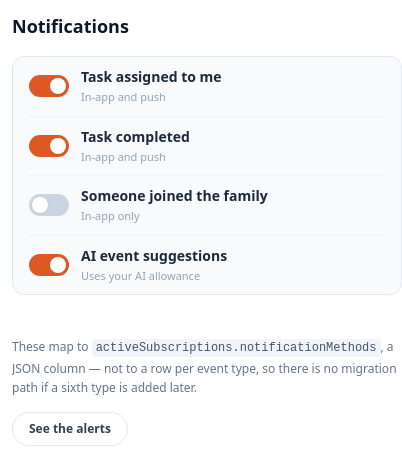
AccountNotificationsSection — the approved card › a switch that only renders is a failure › names what changed, immediately, and never in a bare alert
Click the switch named "Task assigned to me".
click(49, 86)  # box [29,75,69,97]
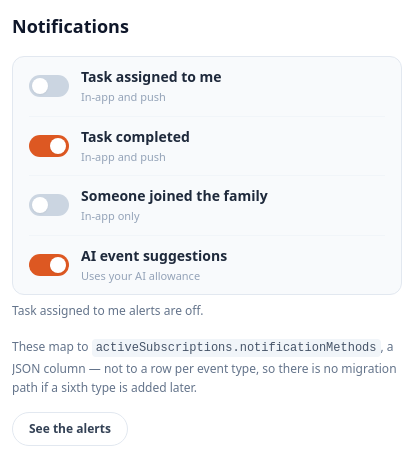
expect the message with test id "notification-status" shows "Task assigned to me": met, box [12,302,204,319]
expect the message with test id "notification-status" shows "off": met, box [12,302,204,319]
